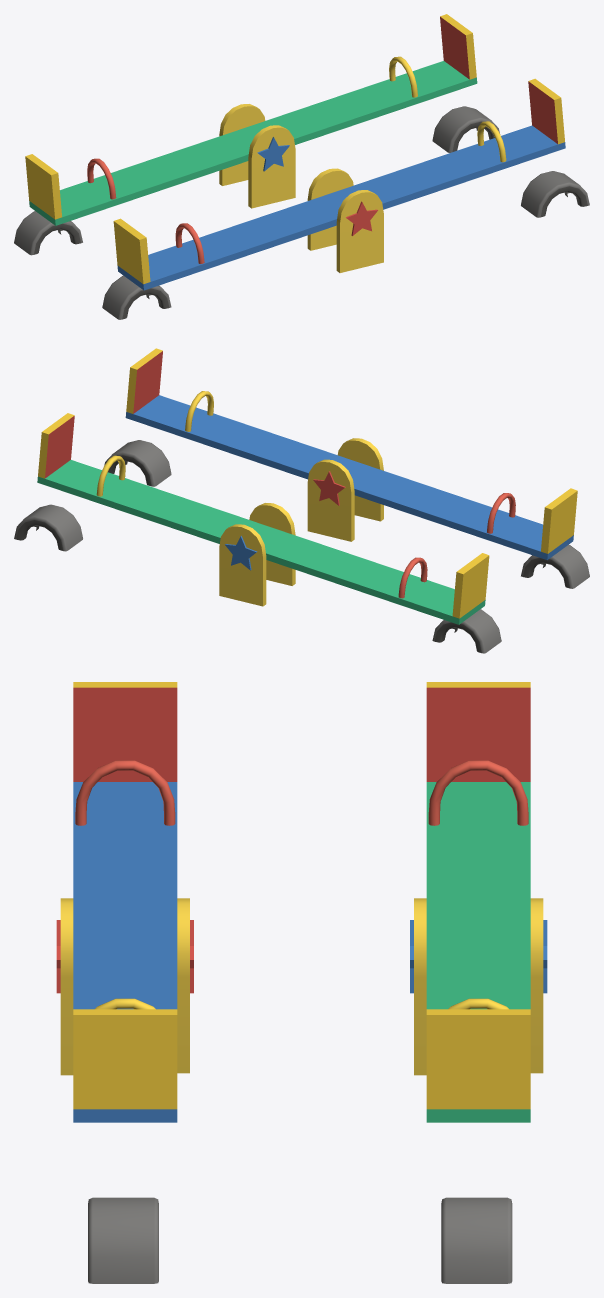
Rendered from Seesaw.fbx.
3 views of the same model, one above another, from view 1: azimuth 30°, elevation 25°; view 2: azimuth 150°, elevation 25°; view 3: azimuth 270°, elevation 25° (orthographic). The views are drawn at different scales.
Parts seen in each view (by area): view 1: Seesaw; view 2: Seesaw; view 3: Seesaw.
Boxes of the visible parts, x1,y1,x2,y2 form: Seesaw: (14, 14, 589, 319); Seesaw: (14, 348, 589, 653); Seesaw: (56, 682, 547, 1283).
Bounding box in the file's own units: 1590 × 381 × 716.
